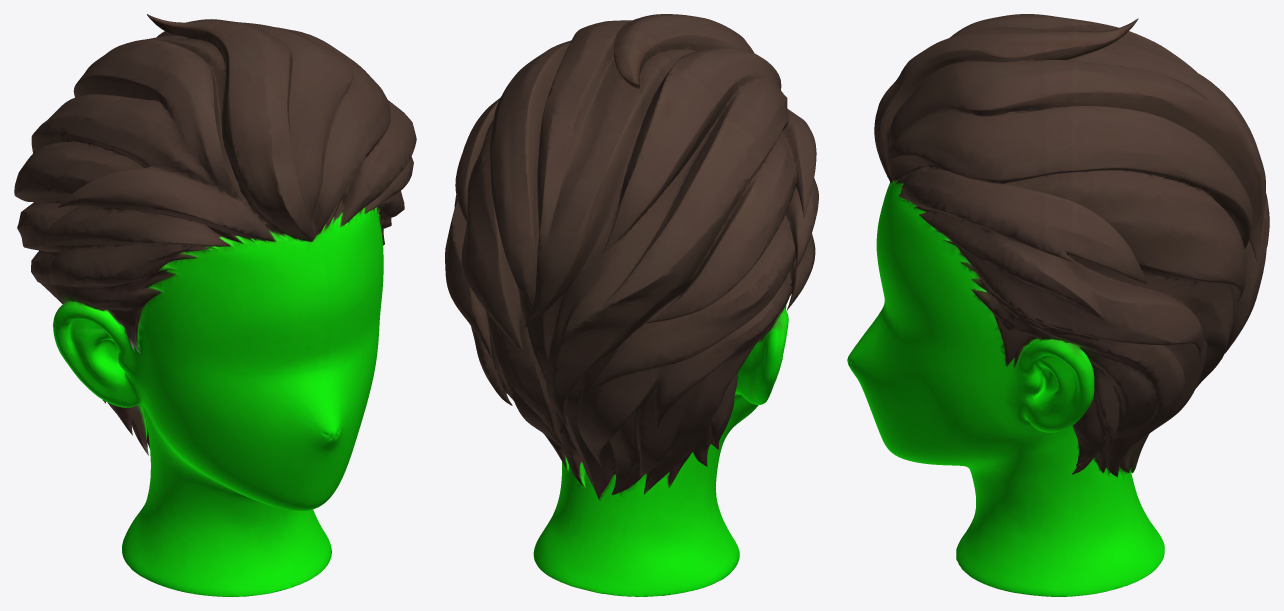
File: hair-haru-swept-v2.glb
3 views of the same model, side by side, from view 1: azimuth 30°, elevation 25°; view 2: azimuth 150°, elevation 25°; view 3: azimuth 270°, elevation 25° (orthographic).
Parts seen in each view (by area): view 1: tripo_node_96b8ec9a-180b-442e-b56d-69f8d516e527; view 2: tripo_node_96b8ec9a-180b-442e-b56d-69f8d516e527; view 3: tripo_node_96b8ec9a-180b-442e-b56d-69f8d516e527.
Part boxes in pixels (left/top/right/bottom): tripo_node_96b8ec9a-180b-442e-b56d-69f8d516e527: left=14, top=14, right=416, bottom=596; tripo_node_96b8ec9a-180b-442e-b56d-69f8d516e527: left=445, top=14, right=818, bottom=596; tripo_node_96b8ec9a-180b-442e-b56d-69f8d516e527: left=847, top=14, right=1269, bottom=596.
Bounding box in the file's own units: 0.6729 × 0.9796 × 0.7133.
1 material, 1 textured.
